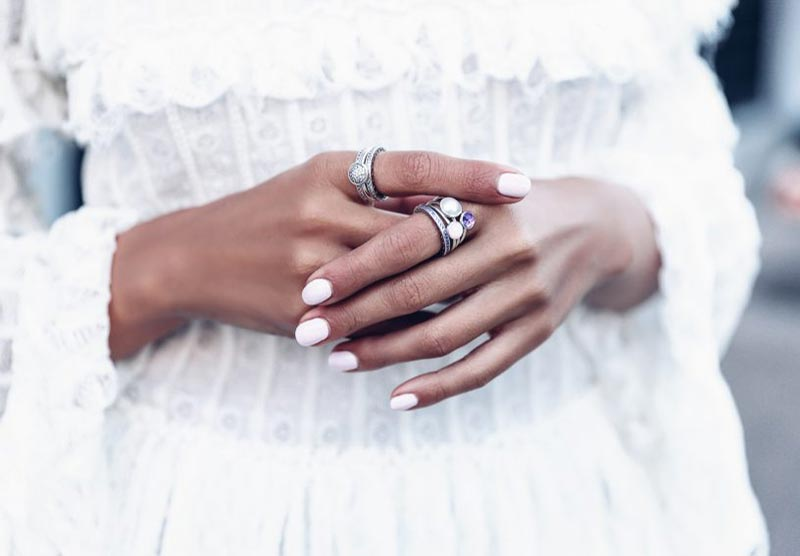finger: (291, 243, 518, 355), (298, 202, 467, 312), (329, 289, 537, 376), (380, 336, 548, 415), (361, 144, 537, 201)
